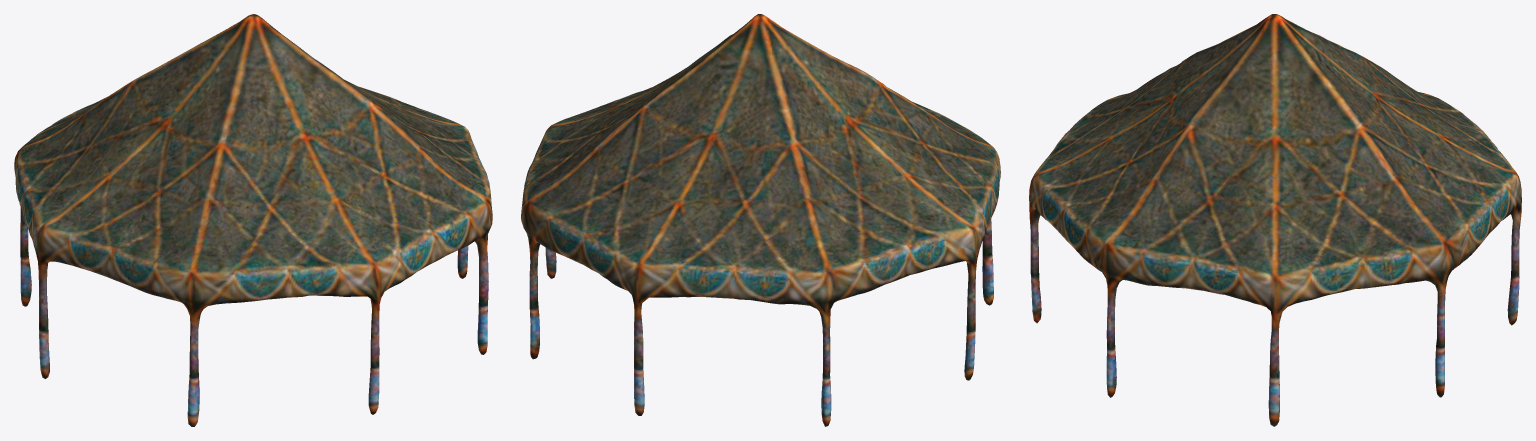
Rendered from daa533cf8316_Burning_Man_themed_tent__clothed.glb.
3 renders of one model, left to right at view 1: azimuth 30°, elevation 25°; view 2: azimuth 150°, elevation 25°; view 3: azimuth 270°, elevation 25°, orthographic.
Parts seen in each view (by area): view 1: geometry_0; view 2: geometry_0; view 3: geometry_0.
Part boxes in pixels (x1=…): geometry_0: x1=14, y1=14, x2=492, y2=426; geometry_0: x1=521, y1=14, x2=1000, y2=426; geometry_0: x1=1029, y1=14, x2=1521, y2=426.
Size of the model in its own units: 0.5836 by 0.4107 by 0.5832.
Materials: 1 (1 with a texture image).
